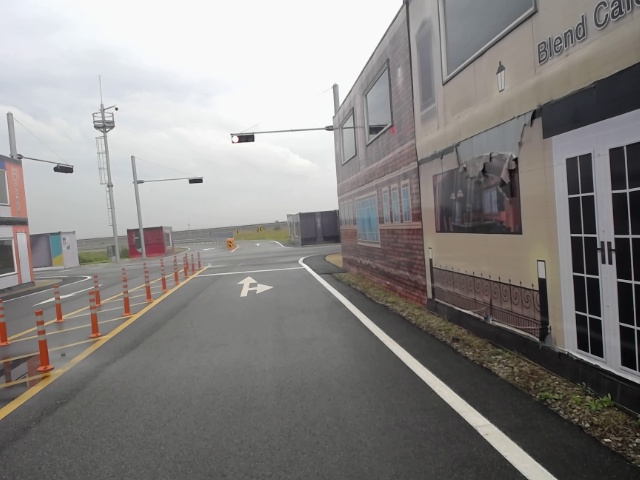red_3: (232, 133, 255, 143)
